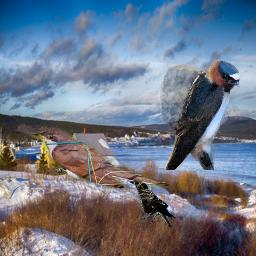Crow: (127, 179, 175, 228)
Cuckoo: (30, 126, 173, 195)
Swallow: (160, 59, 240, 170)
